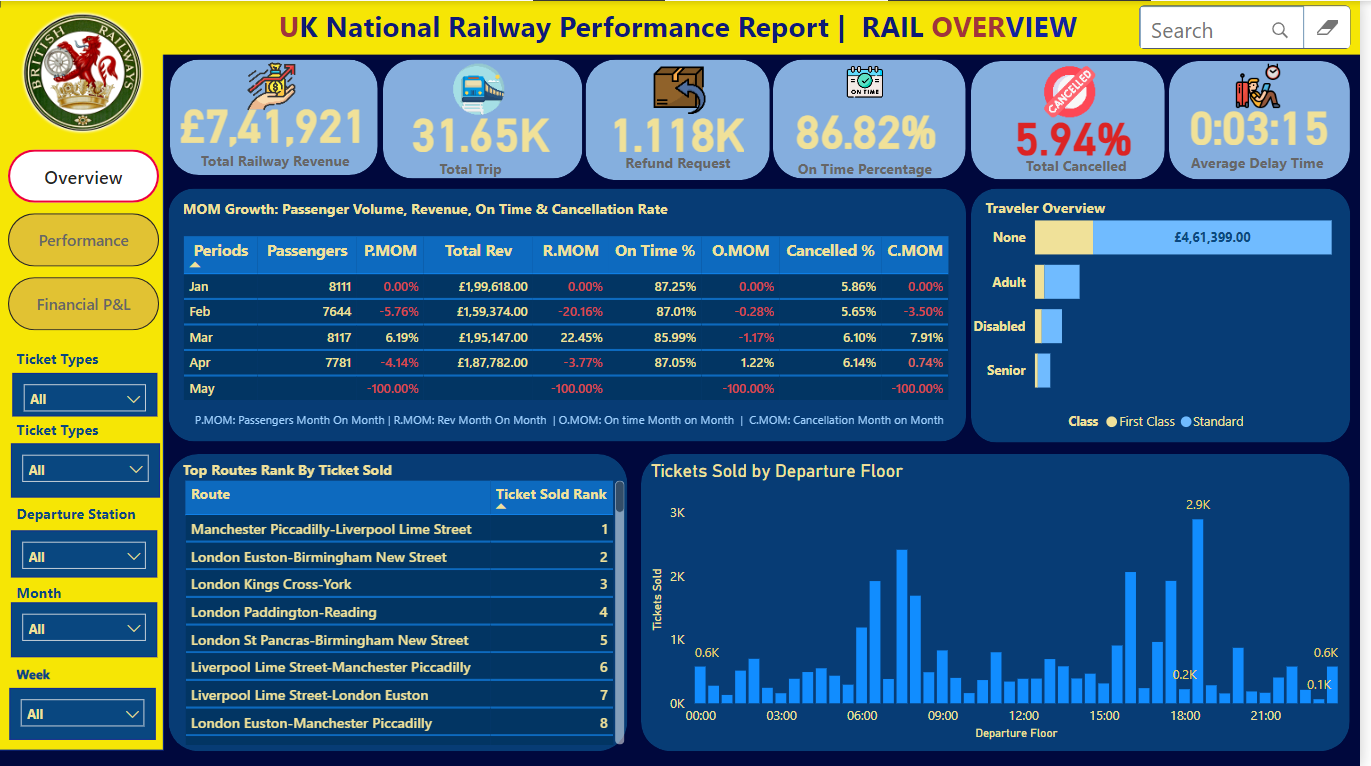

The page's visual inventory and layout, read from the dashboard file:
{"tool":"powerbi","page":{"name":"Overview","canvas":[1280,720],"ordinal":0},"visuals":[{"type":"shape","box":[0,6.3,154.7,698.7],"z":0},{"type":"shape","box":[1.6,0,1279,50.4],"z":1000},{"type":"shape","box":[603.5,425.3,666.3,279.5],"z":2000},{"type":"shape","box":[727.7,55.1,181.1,111.8],"z":3000},{"type":"shape","box":[551.3,55.1,173.3,113.4],"z":4000},{"type":"shape","box":[360.7,55.1,187.4,111.8],"z":5000},{"type":"shape","box":[160,425.3,431.4,279.5],"z":6000},{"type":"shape","box":[913.4,176.2,356.5,239],"z":7000},{"type":"shape","box":[160.7,55.1,195.3,108.7],"z":8000},{"type":"shape","box":[159.1,176.4,749.7,237.8],"z":9000},{"type":"shape","box":[913.4,56.7,182.3,111.4],"z":10000},{"type":"card","fields":{"Values":["Calender_Table.Tickets Sold"]},"box":[346.3,91.1,210.6,58.7],"z":11000},{"type":"textbox","box":[184.3,135.5,237.8,78.8],"z":12000},{"type":"textbox","box":[409.1,141.8,241,77],"z":13000},{"type":"textbox","box":[745.3,141.8,243,77],"z":14000},{"type":"shape","box":[1099.7,56.7,170.1,111.4],"z":15000},{"type":"card","fields":{"Values":["Key Measures.Revenue"]},"box":[154.4,81.9,207.9,63],"z":16000},{"type":"cardVisual","fields":{"Data":["Key Measures.Total Refun Request"]},"box":[557.6,75.6,178,81.9],"z":17000},{"type":"textbox","box":[584.4,137,241,77.2],"z":18000},{"type":"cardVisual","fields":{"Data":["Key Measures.On Time percentage"]},"box":[732.4,70.9,171.7,96.1],"z":19000},{"type":"cardVisual","fields":{"Data":["Calender_Table.Cancelled Percentage"]},"box":[936.2,79.7,175.1,70.3],"z":20000},{"type":"textbox","box":[959.7,139.1,128.2,48.5],"z":21000},{"type":"lineClusteredColumnComboChart","fields":{"Category":["Railway_Project.Departure Floor"],"Y":["Key Measures.Tickets Sold"]},"box":[607.6,431.4,666.3,267.3],"z":22000},{"type":"tableEx","fields":{"Values":["Railway_Project.Route","Key Measures.Ticket Sold Rank"]},"box":[168.5,445.7,423.7,258.3],"z":23000},{"type":"textbox","box":[168.1,425.3,287.6,40.5],"z":24000},{"type":"card","fields":{"Values":["Calender_Table.Average Late Time"]},"box":[1088,78,192,74],"z":25000},{"type":"textbox","box":[1115.2,137,143.3,31.5],"z":26000},{"type":"tableEx","fields":{"Values":["Calendar_Table.Month Short","Calender_Table.Travellers","Calendar_Table.TravellersMOMGrowth","Key Measures.Revenue","Calendar_Table.RevenueMOM","Key Measures.On Time percentage","Calendar_Table.OnTime MOM","Calendar_Table.Cancelled Percentage","Calendar_Table.CancelledMOM"]},"box":[168,216,750,174],"z":27000},{"type":"textbox","box":[168.1,180.3,719,32.4],"z":28000},{"type":"slicer","fields":{"Values":["Calender_Table.Day of Week Name"]},"box":[9.4,645.5,137.5,48.5],"z":29000},{"type":"textbox","box":[257.9,0,806.5,50],"z":30000},{"type":"textbox","box":[10.9,617.4,136,28.1],"z":31000},{"type":"slicer","fields":{"Values":["Railway_Project.Departure_Station_Short"]},"box":[10.9,497,137.5,43.8],"z":32000},{"type":"slicer","fields":{"Values":["Calendar_Table.Month Short"]},"box":[10.9,565.8,137.5,51.6],"z":33000},{"type":"textbox","box":[10.9,540.8,81.3,29.7],"z":34000},{"type":"barChart","fields":{"Category":["Railway_Project.Railcard"],"Series":["Railway_Project.Ticket_Class"],"Y":["Key Measures.TotalRevenue"]},"box":[908.8,176.4,360.7,237.8],"z":35000},{"type":"textbox","box":[921.4,179.6,167,31.5],"z":36000},{"type":"image","box":[4.7,0,148.5,134.4],"z":37000},{"type":"textFilter25A4896A83E0487089E2B90C9AE57C8A","fields":{"field":["Railway_Project.Route"]},"box":[1072.2,4.7,198.5,40.6],"z":38000},{"type":"textbox","box":[10.9,467.3,145.4,29.7],"z":39000},{"type":"image","box":[209.5,50.4,91.4,58.3],"z":40000},{"type":"image","box":[422.1,52,58.3,61.4],"z":41000},{"type":"image","box":[608,52,64,62],"z":42000},{"type":"image","box":[790,54,48,44],"z":43000},{"type":"image","box":[976.6,48.8,58.3,72.5],"z":44000},{"type":"image","box":[1149.8,52,69.3,55.1],"z":45000},{"type":"pageNavigator","box":[7.8,139.1,142.2,171.9],"z":46000},{"type":"slicer","fields":{"Values":["Railway_Project.Ticket_Type"]},"box":[11.2,416,139.7,50.6],"z":46000,"group":"g2"},{"type":"group","id":"g1","title":"Group 1","box":[10.9,322,137.5,68.8],"z":47000},{"type":"textbox","box":[10.9,387.6,139.1,29.7],"z":47000,"group":"g2"},{"type":"slicer","fields":{"Values":["Railway_Project.Ticket_Class"]},"box":[12.5,350.1,136,40.6],"z":48000,"group":"g1"},{"type":"group","id":"g2","title":"Group 2","box":[10.9,387.6,139.1,79.7],"z":48000},{"type":"textbox","box":[10.9,322,137.5,31.3],"z":49000,"group":"g1"},{"type":"textbox","box":[174,378,730,276],"z":49000}]}

Visuals, with their boxes in screenshot pixels (x1, y1, x2, y2), scaled from the page's 1280x720 canvas onto the 1371x766 screenshot:
shape: pyautogui.locateOnScreen(0, 7, 166, 750)
shape: pyautogui.locateOnScreen(2, 0, 1370, 54)
shape: pyautogui.locateOnScreen(646, 452, 1360, 750)
shape: pyautogui.locateOnScreen(779, 59, 973, 178)
shape: pyautogui.locateOnScreen(590, 59, 776, 179)
shape: pyautogui.locateOnScreen(386, 59, 587, 178)
shape: pyautogui.locateOnScreen(171, 452, 633, 750)
shape: pyautogui.locateOnScreen(978, 187, 1360, 442)
shape: pyautogui.locateOnScreen(172, 59, 381, 174)
shape: pyautogui.locateOnScreen(170, 188, 973, 441)
shape: pyautogui.locateOnScreen(978, 60, 1174, 179)
card - Calender_Table.Tickets Sold: pyautogui.locateOnScreen(371, 97, 596, 159)
textbox: pyautogui.locateOnScreen(197, 144, 452, 228)
textbox: pyautogui.locateOnScreen(438, 151, 696, 233)
textbox: pyautogui.locateOnScreen(798, 151, 1059, 233)
shape: pyautogui.locateOnScreen(1178, 60, 1360, 179)
card - Key Measures.Revenue: pyautogui.locateOnScreen(165, 87, 388, 154)
cardVisual - Key Measures.Total Refun Request: pyautogui.locateOnScreen(597, 80, 788, 168)
textbox: pyautogui.locateOnScreen(626, 146, 884, 228)
cardVisual - Key Measures.On Time percentage: pyautogui.locateOnScreen(784, 75, 968, 178)
cardVisual - Calender_Table.Cancelled Percentage: pyautogui.locateOnScreen(1003, 85, 1190, 160)
textbox: pyautogui.locateOnScreen(1028, 148, 1165, 200)
lineClusteredColumnComboChart - Railway_Project.Departure Floor x Key Measures.Tickets Sold: pyautogui.locateOnScreen(651, 459, 1364, 743)
tableEx - Railway_Project.Route x Key Measures.Ticket Sold Rank: pyautogui.locateOnScreen(180, 474, 634, 749)
textbox: pyautogui.locateOnScreen(180, 452, 488, 496)
card - Calender_Table.Average Late Time: pyautogui.locateOnScreen(1165, 83, 1370, 162)
textbox: pyautogui.locateOnScreen(1194, 146, 1348, 179)
tableEx - Calendar_Table.Month Short x Calender_Table.Travellers: pyautogui.locateOnScreen(180, 230, 983, 415)
textbox: pyautogui.locateOnScreen(180, 192, 950, 226)
slicer - Calender_Table.Day of Week Name: pyautogui.locateOnScreen(10, 687, 157, 738)
textbox: pyautogui.locateOnScreen(276, 0, 1140, 53)
textbox: pyautogui.locateOnScreen(12, 657, 157, 687)
slicer - Railway_Project.Departure_Station_Short: pyautogui.locateOnScreen(12, 529, 159, 575)
slicer - Calendar_Table.Month Short: pyautogui.locateOnScreen(12, 602, 159, 657)
textbox: pyautogui.locateOnScreen(12, 575, 99, 607)
barChart - Railway_Project.Railcard x Railway_Project.Ticket_Class: pyautogui.locateOnScreen(973, 188, 1360, 441)
textbox: pyautogui.locateOnScreen(987, 191, 1166, 225)
image: pyautogui.locateOnScreen(5, 0, 164, 143)
textFilter25A4896A83E0487089E2B90C9AE57C8A - Railway_Project.Route: pyautogui.locateOnScreen(1148, 5, 1361, 48)
textbox: pyautogui.locateOnScreen(12, 497, 167, 529)
image: pyautogui.locateOnScreen(224, 54, 322, 116)
image: pyautogui.locateOnScreen(452, 55, 515, 121)
image: pyautogui.locateOnScreen(651, 55, 720, 121)
image: pyautogui.locateOnScreen(846, 57, 898, 104)
image: pyautogui.locateOnScreen(1046, 52, 1108, 129)
image: pyautogui.locateOnScreen(1232, 55, 1306, 114)
pageNavigator: pyautogui.locateOnScreen(8, 148, 161, 331)
slicer - Railway_Project.Ticket_Type: pyautogui.locateOnScreen(12, 443, 162, 496)
"Group 1" group: pyautogui.locateOnScreen(12, 343, 159, 416)
textbox: pyautogui.locateOnScreen(12, 412, 161, 444)
slicer - Railway_Project.Ticket_Class: pyautogui.locateOnScreen(13, 372, 159, 416)
"Group 2" group: pyautogui.locateOnScreen(12, 412, 161, 497)
textbox: pyautogui.locateOnScreen(12, 343, 159, 376)
textbox: pyautogui.locateOnScreen(186, 402, 968, 696)
